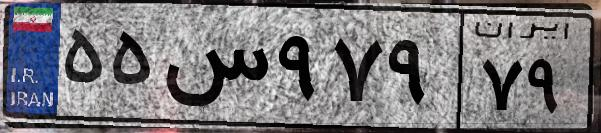5: (57, 26, 110, 100), (110, 28, 158, 98)
7: (330, 28, 385, 110), (475, 38, 525, 113)
9: (270, 28, 330, 110), (385, 28, 445, 110), (525, 38, 570, 115)
س: (158, 20, 270, 120)
